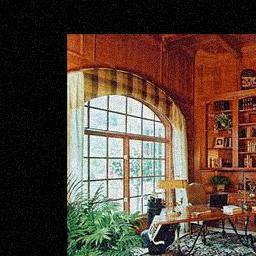Matera: (72, 202, 132, 256)
Otro Obstaculo: (144, 196, 177, 255)
